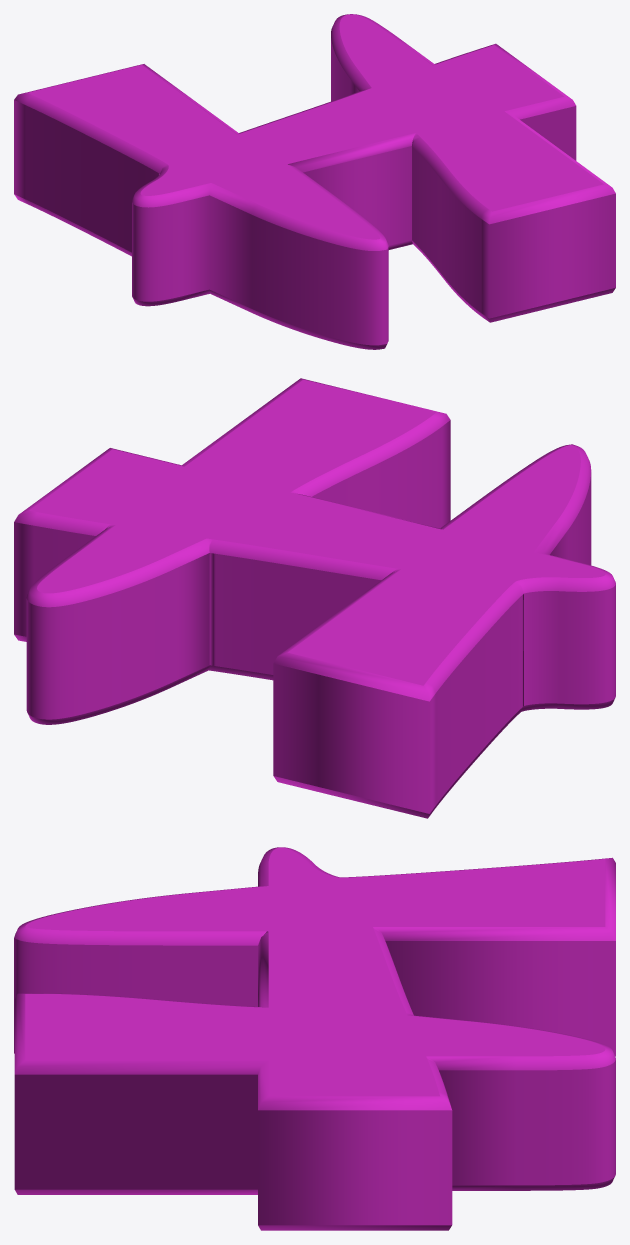
Rendered from Letter_H.fbx.
3 renders of one model, top to bottom at view 1: azimuth 30°, elevation 25°; view 2: azimuth 150°, elevation 25°; view 3: azimuth 270°, elevation 25°, orthographic. The views are drawn at different scales.
Visible parts, largest first — view 1: Letter_H; view 2: Letter_H; view 3: Letter_H.
Part boxes in pixels (box(x1,y1,x2,y2)): Letter_H: box(14, 14, 615, 349); Letter_H: box(14, 378, 615, 818); Letter_H: box(14, 847, 615, 1230).
Bounding box in the file's own units: 0.5769 × 0.14 × 0.5695.
